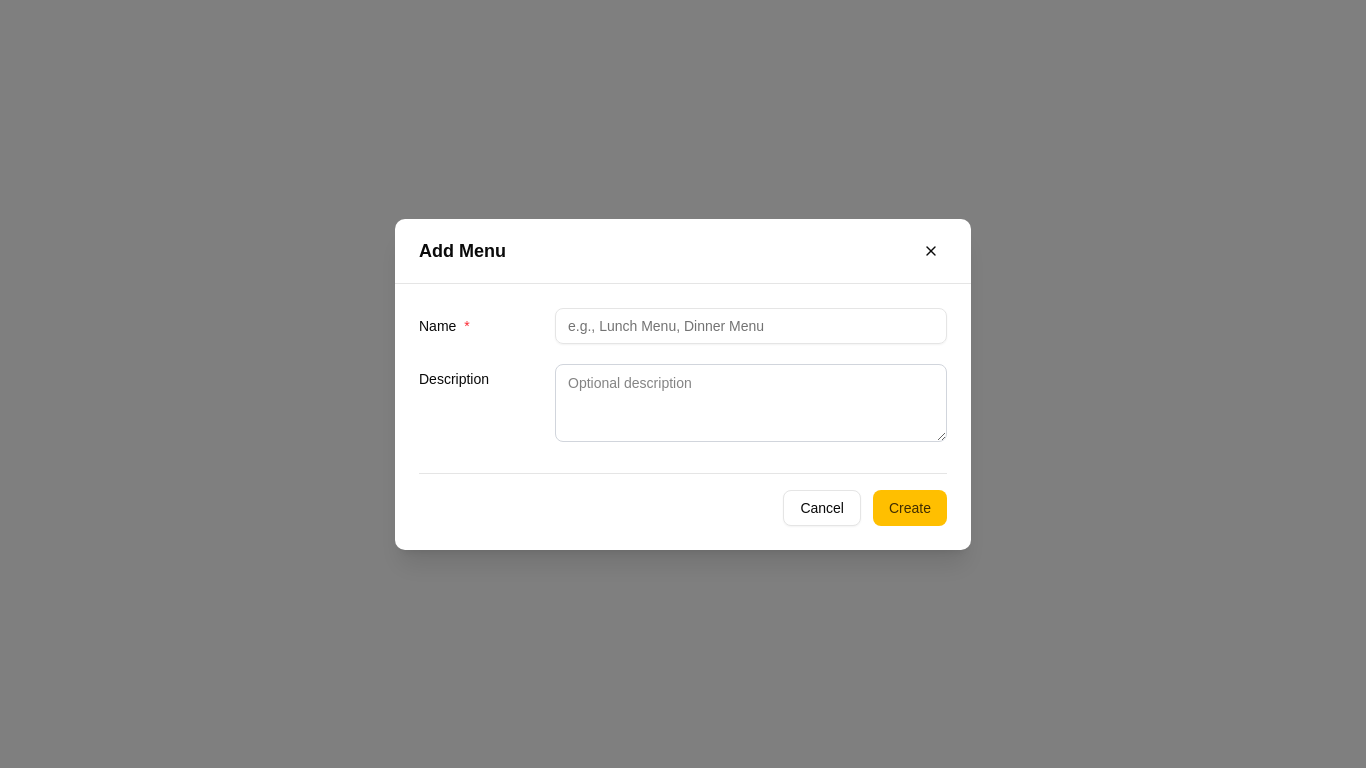
MenuForm › Error Handling › should display error message when action fails
The width and height of the screenshot is (1366, 768).
Type "Duplicate Name" into the field labelled "Name *" at (751, 326), box [555,308,947,344]
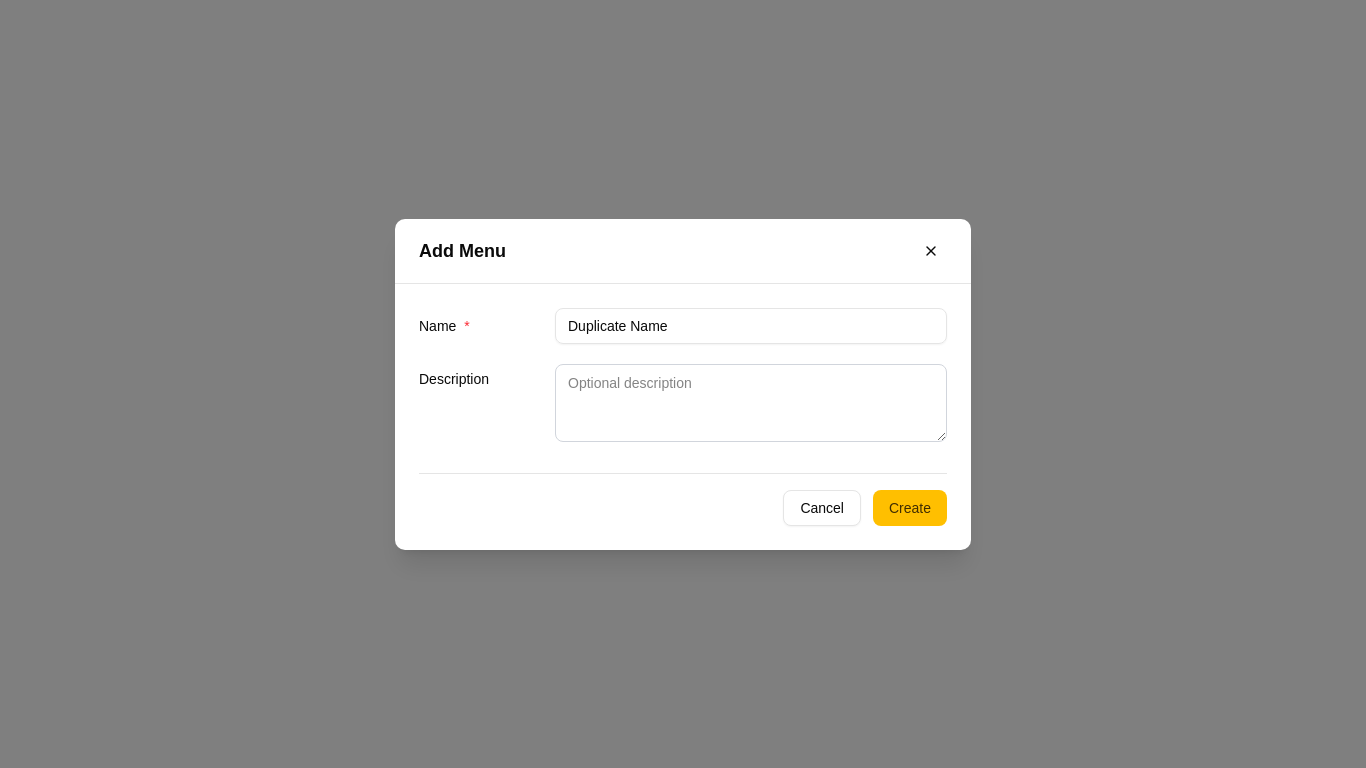
Click the button "Create" at (910, 508), box [873,490,947,526]
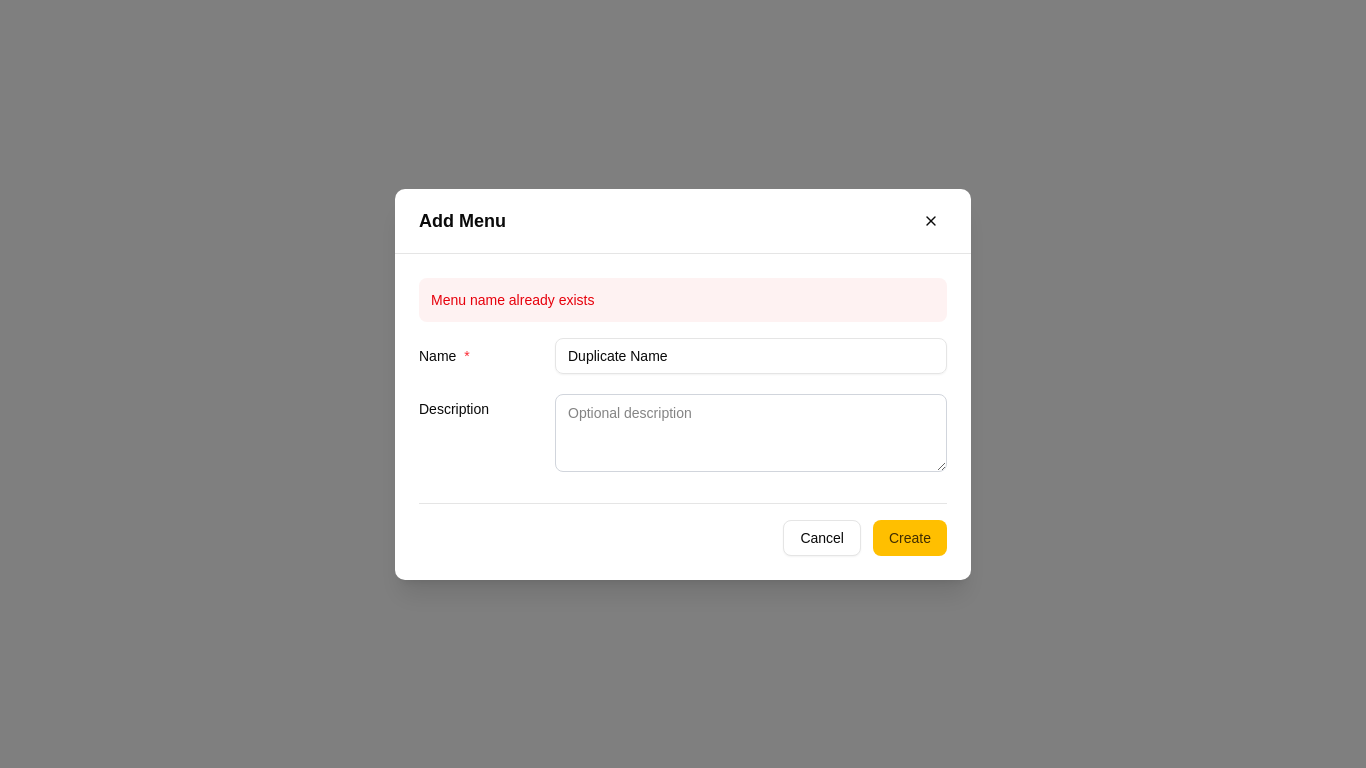
Check: the text "Menu name already exists" is shown, box [419,278,947,322]
